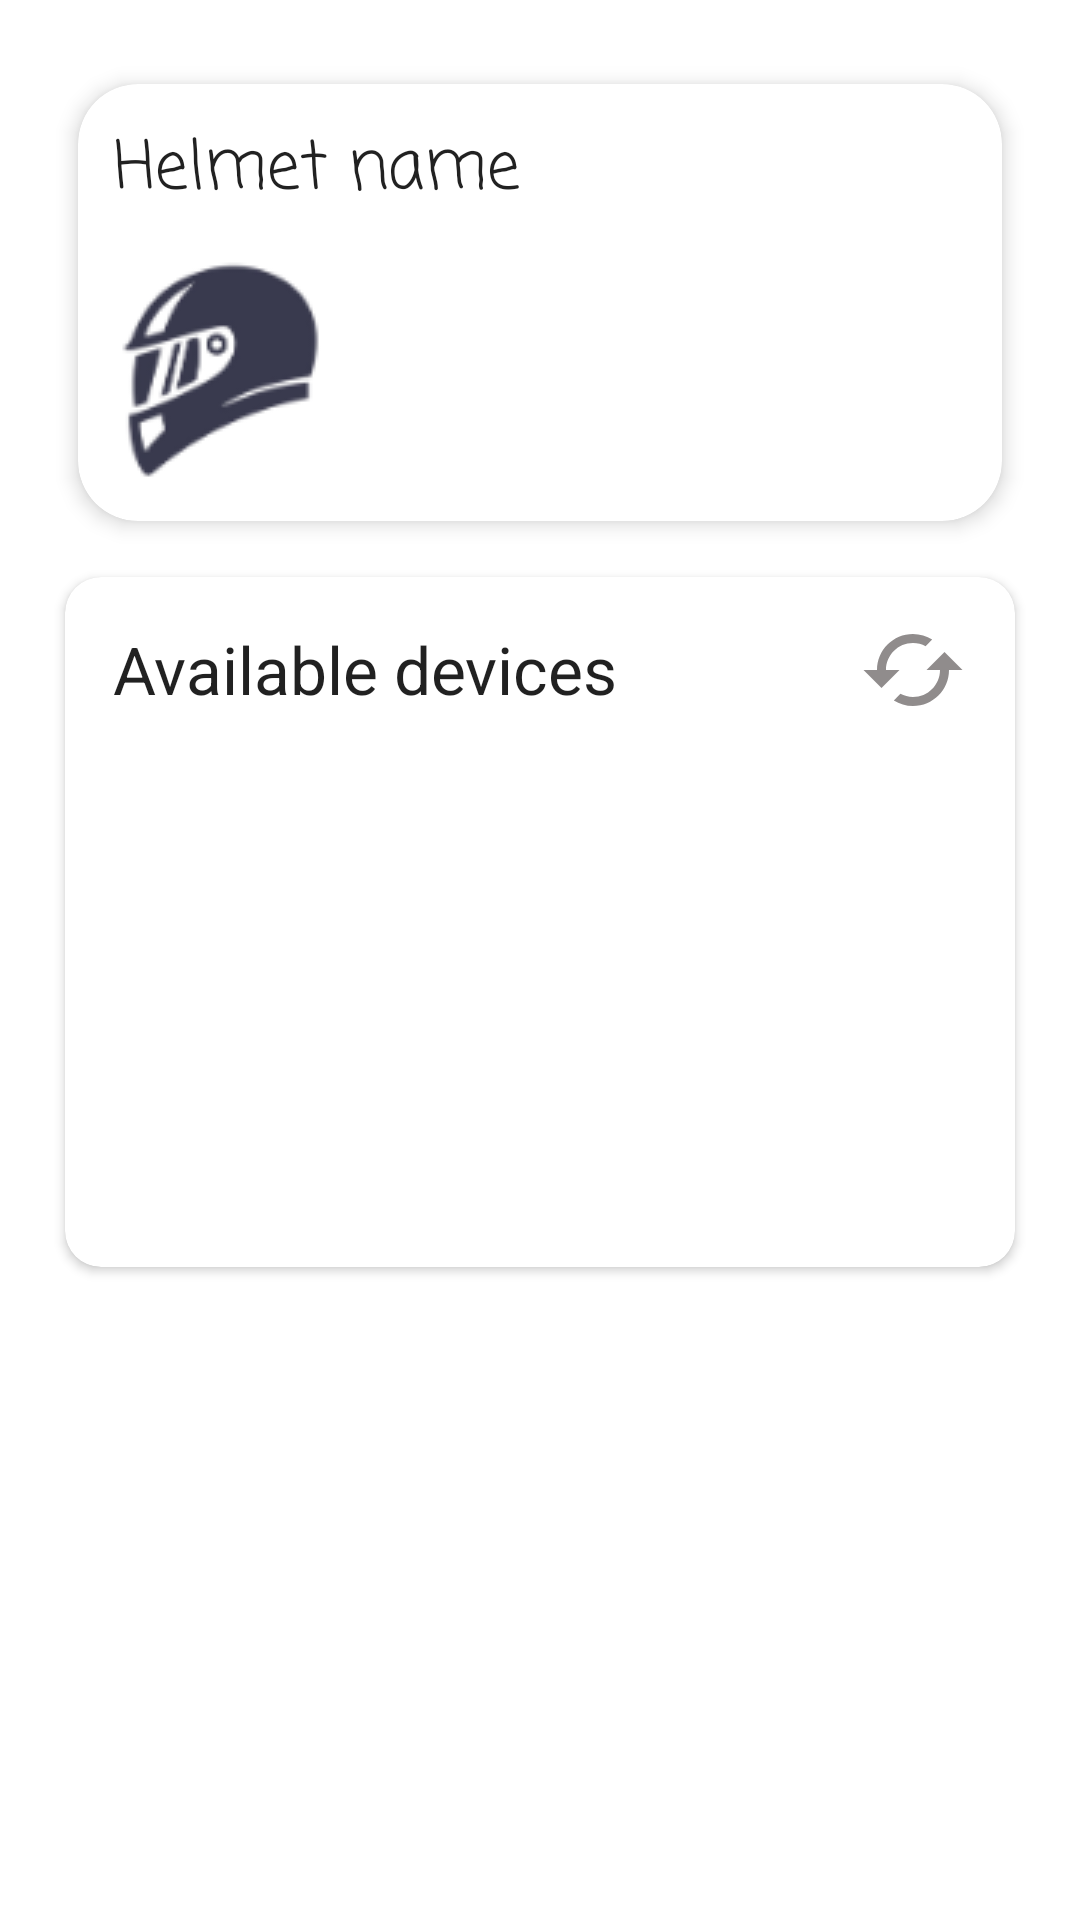

Screen size 1080px×1920px. Icon name, then its center in pixels as [x,y]:
cached: [913,670]
